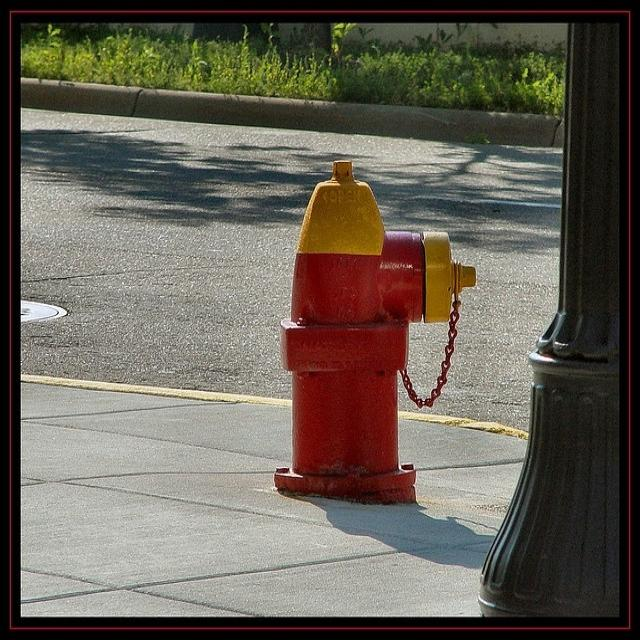fire_hydrant: (241, 109, 510, 563)
